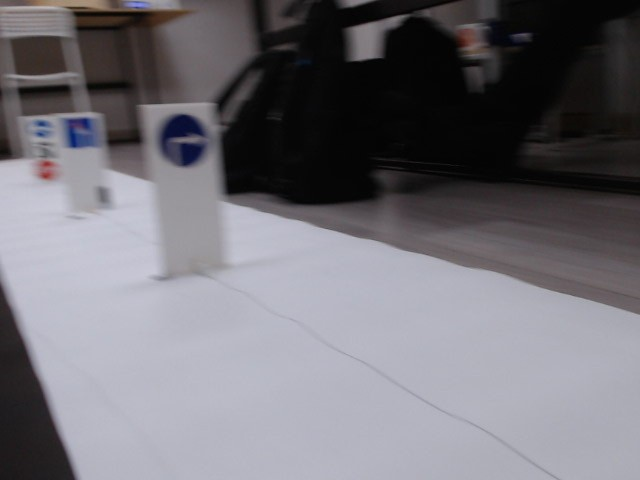Right: (157, 114, 212, 167)
priority_movement: (63, 115, 102, 151)
